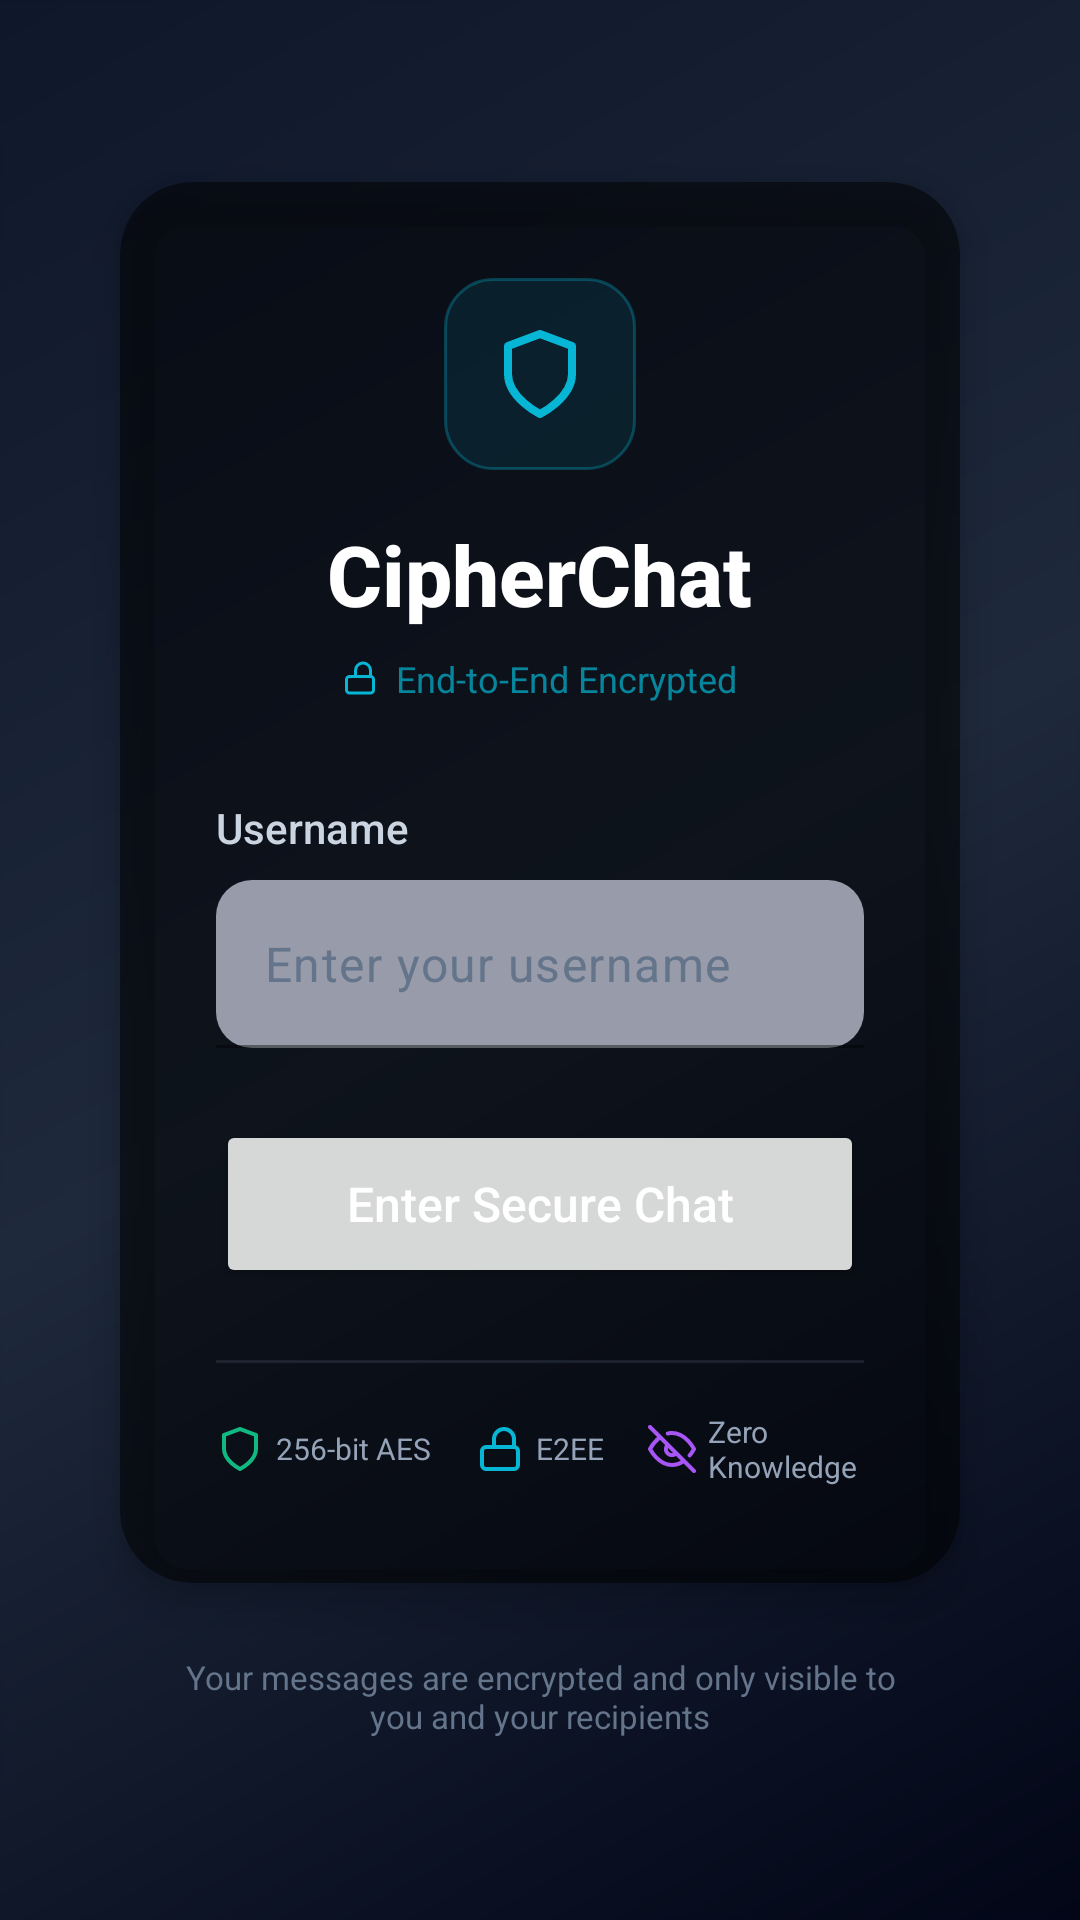

Point at icon controls on the screen. Image size 1080px x 1920px, points as (x=x, y=y).
eye off: (x=672, y=1449)
lock: (x=360, y=678), (x=500, y=1449)
shield: (x=540, y=374), (x=240, y=1449)
